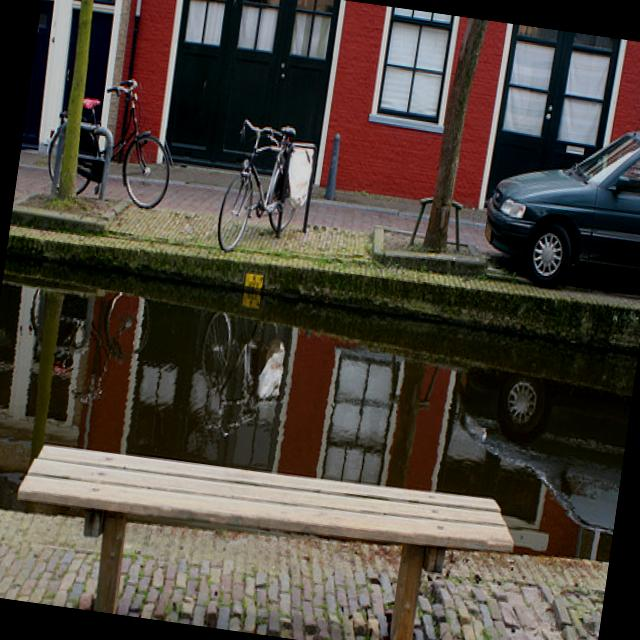Vehicle: (474, 106, 640, 302)
